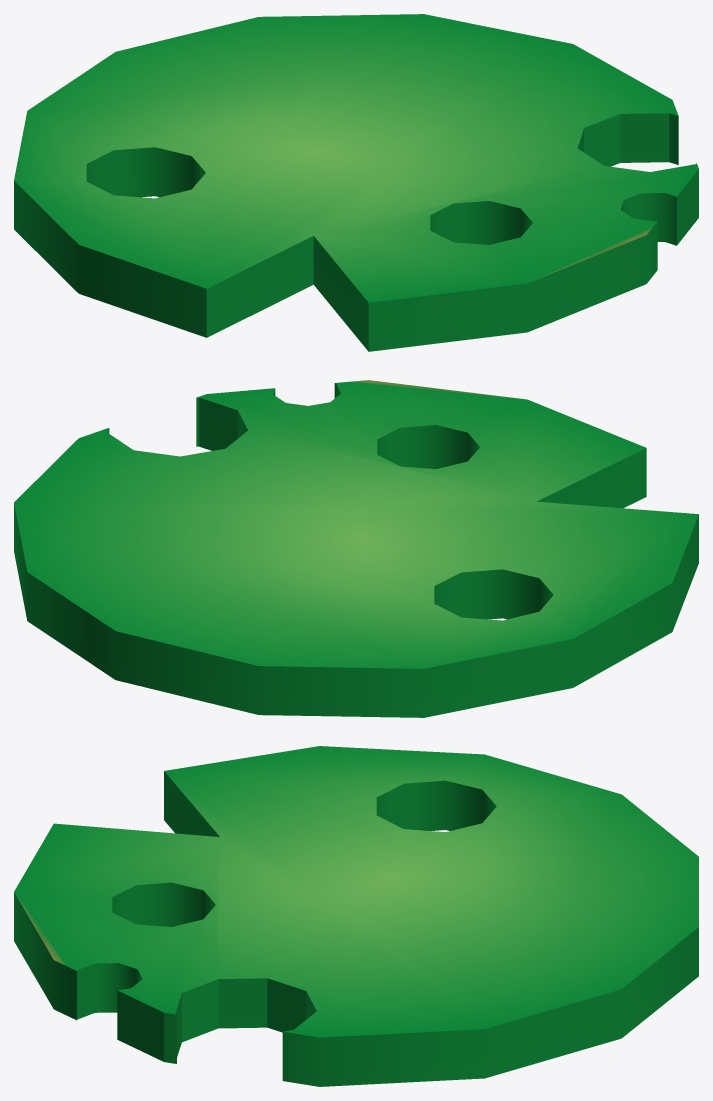
File: LilyLeaf.fbx
3 renders of one model, top to bottom at view 1: azimuth 30°, elevation 25°; view 2: azimuth 150°, elevation 25°; view 3: azimuth 270°, elevation 25°, orthographic.
Parts seen in each view (by area): view 1: LilyLeaf; view 2: LilyLeaf; view 3: LilyLeaf.
Boxes of the visible parts, left/top/right/bottom form: LilyLeaf: left=14, top=14, right=698, bottom=351; LilyLeaf: left=14, top=380, right=698, bottom=717; LilyLeaf: left=14, top=746, right=698, bottom=1086.
Bounding box in the file's own units: 0.5628 × 0.0444 × 0.5587.
